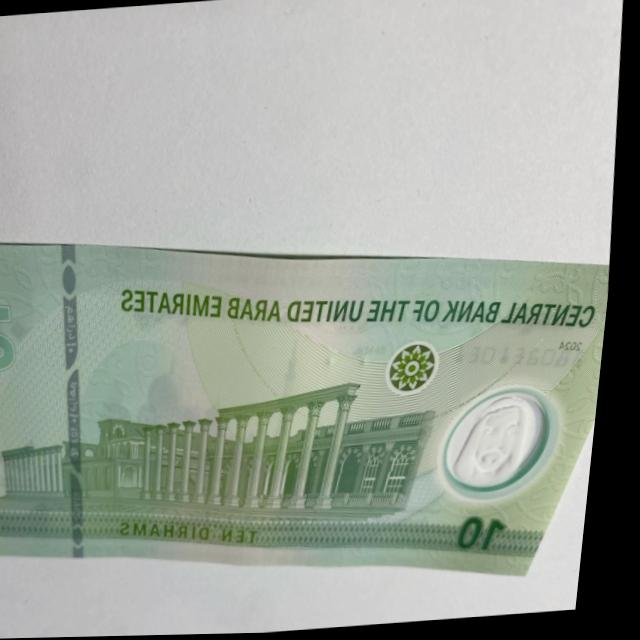10_AED: (0, 238, 609, 581)
